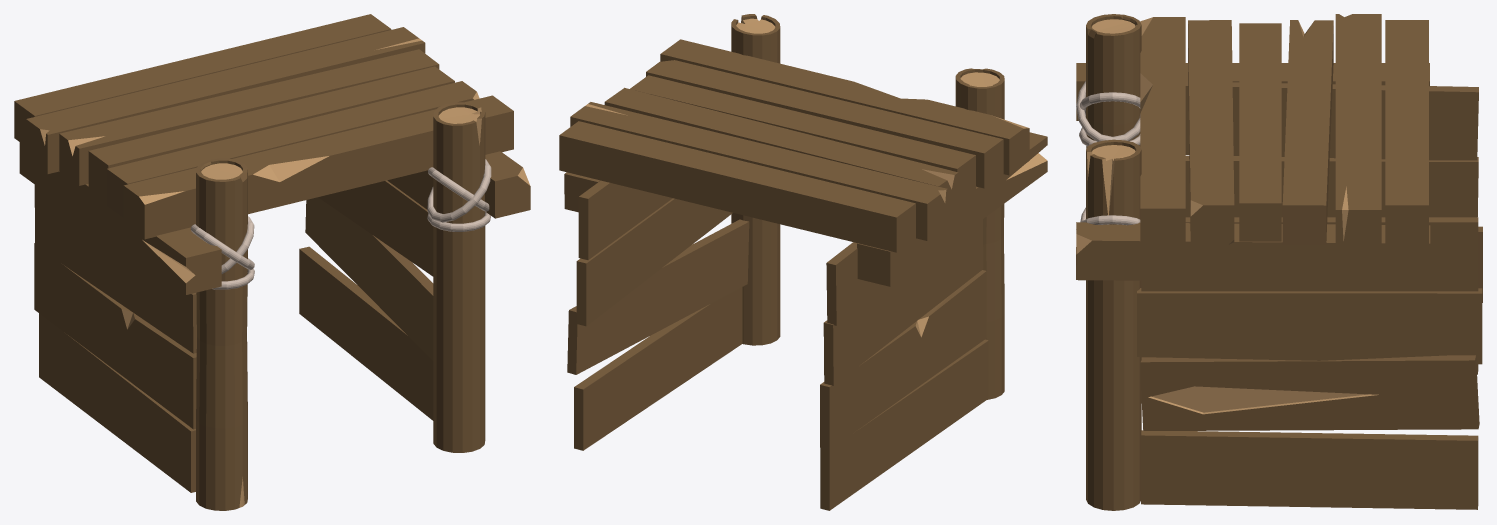
The model's file is Mine entrance.fbx.
3 renders of one model, left to right at view 1: azimuth 30°, elevation 25°; view 2: azimuth 150°, elevation 25°; view 3: azimuth 270°, elevation 25°, orthographic. The views are drawn at different scales.
Visible parts, largest first — view 1: Mine entrance; view 2: Mine entrance; view 3: Mine entrance.
Part boxes in pixels (x1,y1,x2,y2): Mine entrance: (14,14,530,510); Mine entrance: (559,14,1047,510); Mine entrance: (1076,14,1482,510).
Size of the model in its own units: 247 by 207 by 217.
